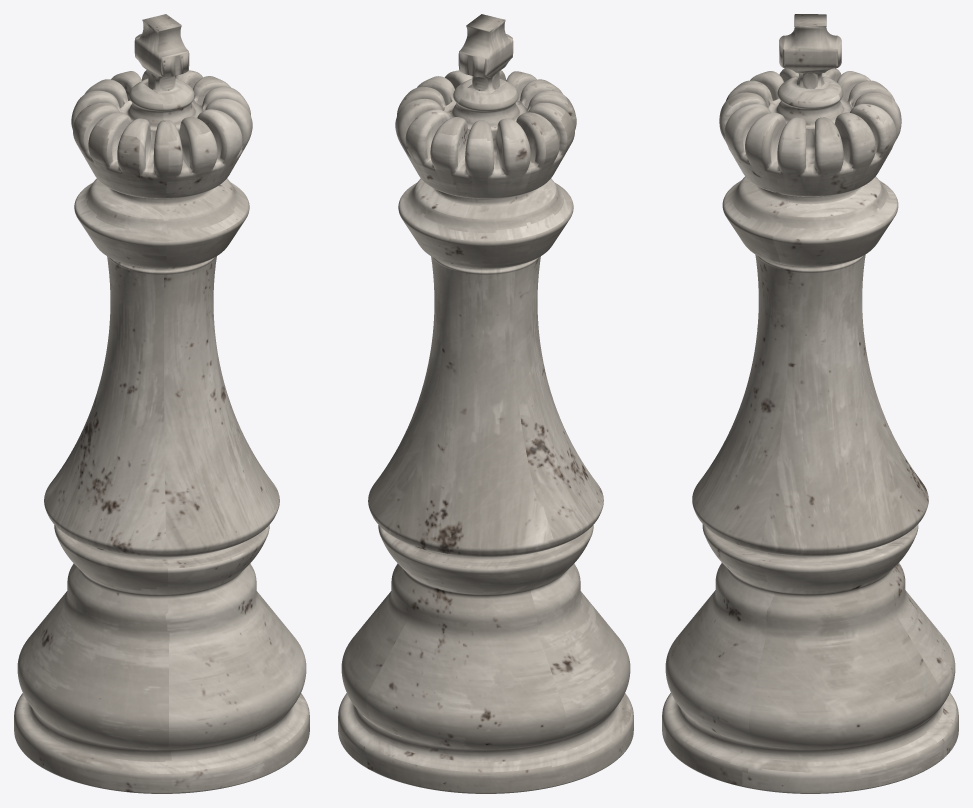
The model's file is wking.glb.
3 renders of one model, left to right at view 1: azimuth 30°, elevation 25°; view 2: azimuth 150°, elevation 25°; view 3: azimuth 270°, elevation 25°, orthographic.
Parts seen in each view (by area): view 1: King; view 2: King; view 3: King.
Boxes of the visible parts, x1,y1,x2,y2 form: King: (14,14,309,793); King: (338,14,633,793); King: (662,14,958,793).
Size of the model in its own units: 0.034 by 0.09 by 0.034.
Materials: 1 (1 with a texture image).
